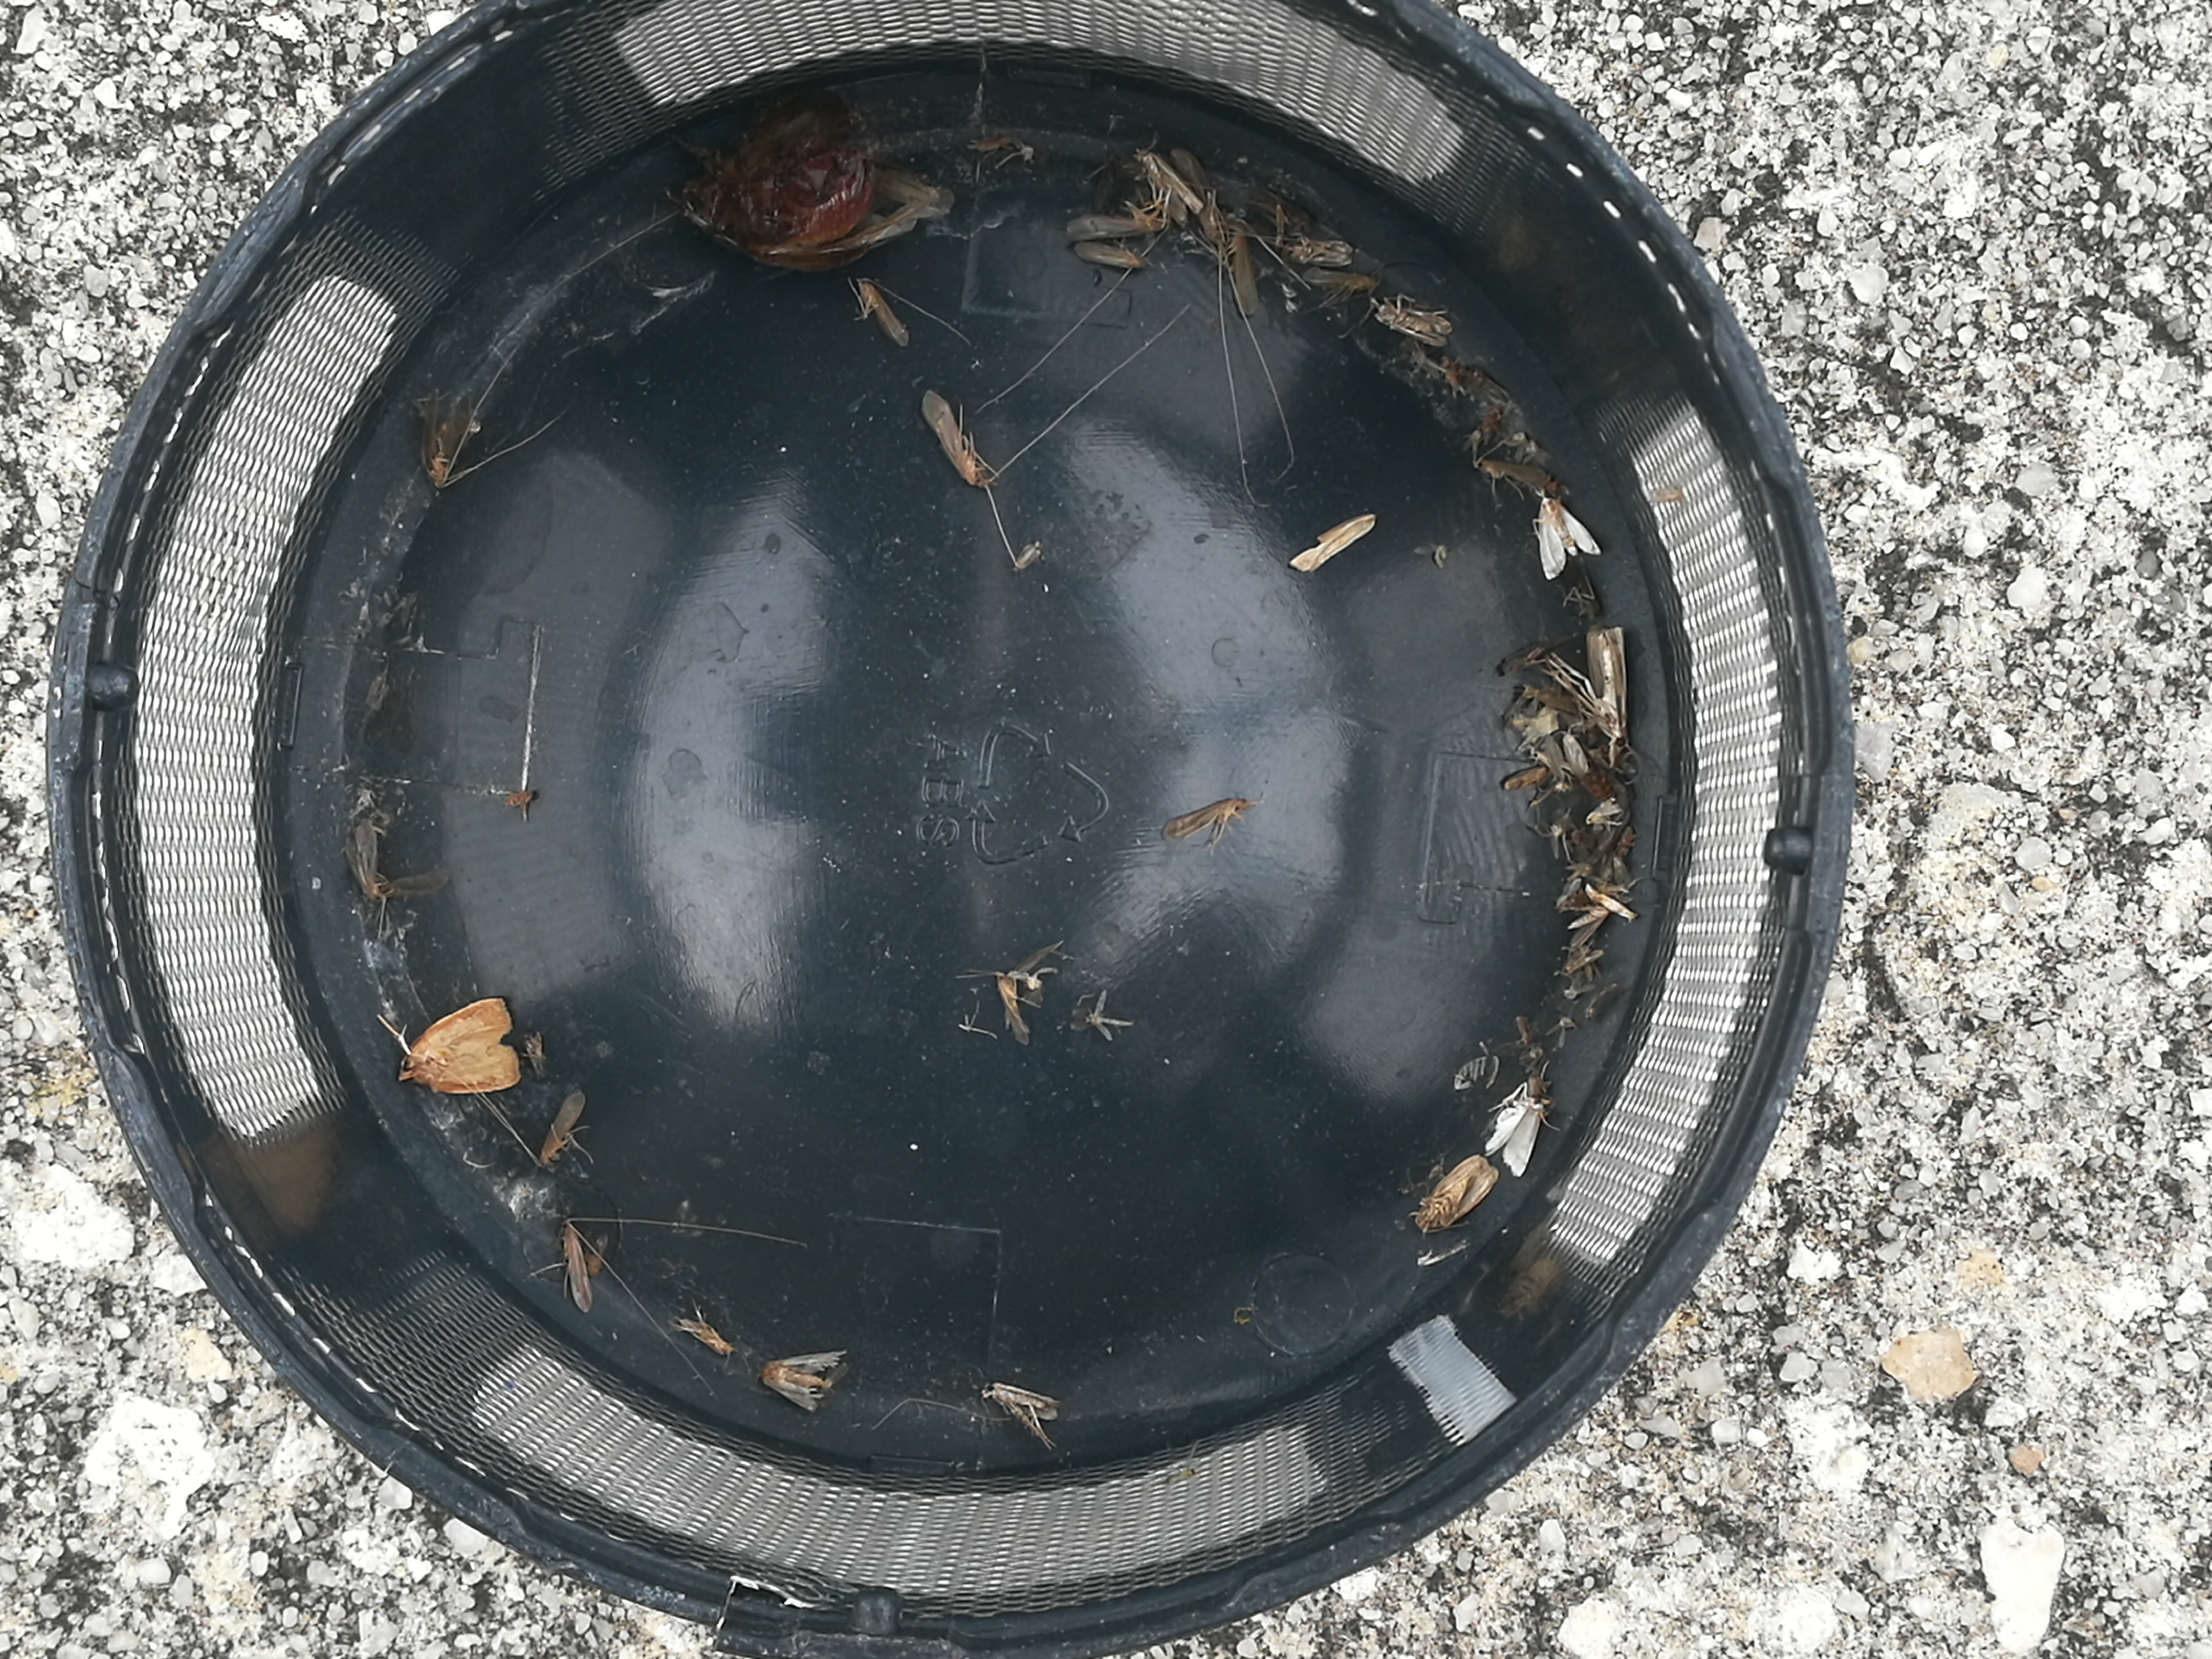beetle: (681, 89, 867, 249)
mosquito: (921, 392, 984, 484), (1588, 629, 1629, 748), (1136, 146, 1200, 218), (1177, 148, 1223, 242), (536, 1086, 585, 1171), (1163, 798, 1247, 840), (859, 281, 907, 347), (1372, 305, 1453, 345), (559, 1220, 590, 1312), (984, 1384, 1057, 1419), (1230, 225, 1258, 315), (1071, 214, 1163, 240), (679, 1319, 735, 1354), (1472, 457, 1545, 483), (1305, 267, 1381, 291), (1284, 240, 1352, 267), (1078, 242, 1144, 265)
moth: (401, 999, 523, 1094), (345, 821, 448, 894), (1414, 1155, 1500, 1234), (1536, 498, 1601, 579), (761, 1351, 846, 1410), (1489, 1096, 1545, 1178), (425, 392, 469, 490)
